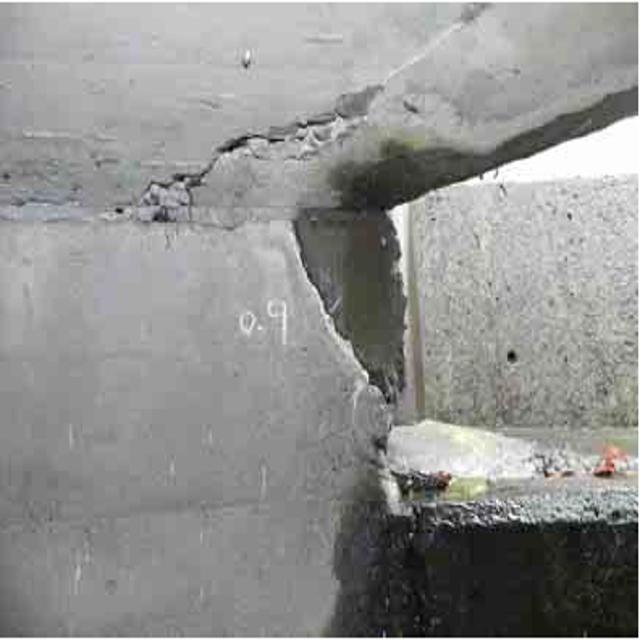crack: (114, 92, 344, 237)
